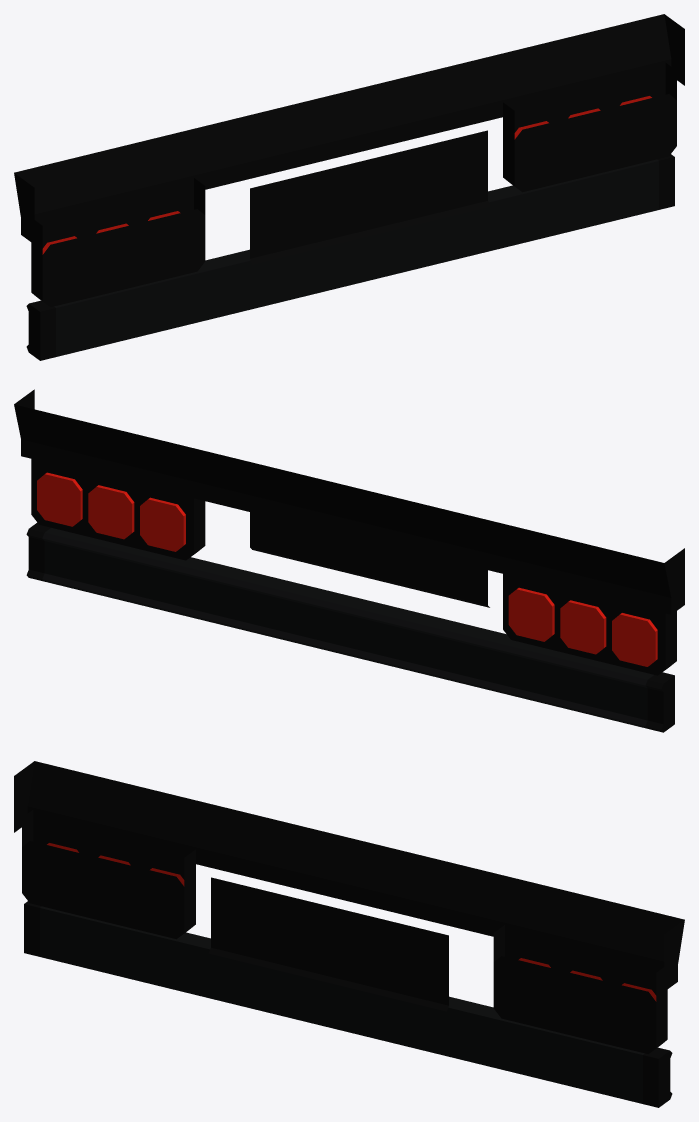
File: xeTai_DenSau.obj
The picture shows the model from 3 angles, top to bottom: view 1: azimuth 30°, elevation 25°; view 2: azimuth 150°, elevation 25°; view 3: azimuth 330°, elevation 25°; orthographic projection.
Parts seen in each view (by area): view 1: Truck_body_Truck_body.L.008; view 2: Truck_body_Truck_body.L.008; view 3: Truck_body_Truck_body.L.008.
Part boxes in pixels (box(x1,y1,x2,y2)): Truck_body_Truck_body.L.008: box(14, 14, 684, 360); Truck_body_Truck_body.L.008: box(14, 389, 684, 732); Truck_body_Truck_body.L.008: box(14, 761, 684, 1107).
Size of the model in its own units: 1.64 by 0.4255 by 0.14.
